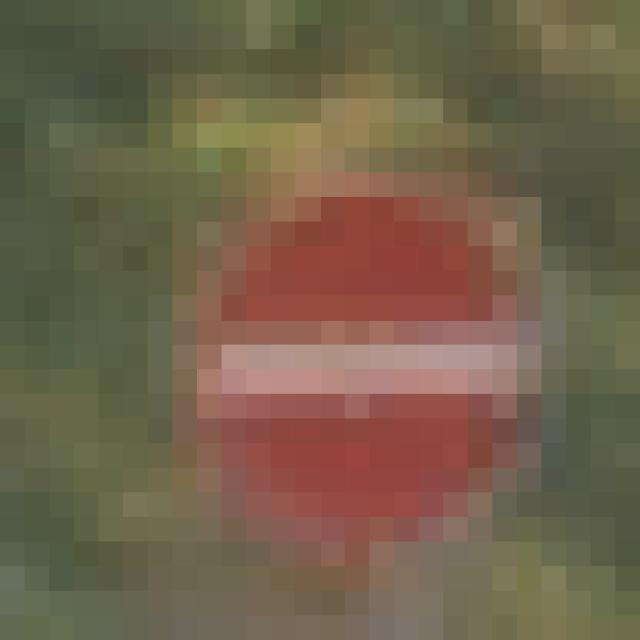No Entry: (124, 124, 493, 518)
